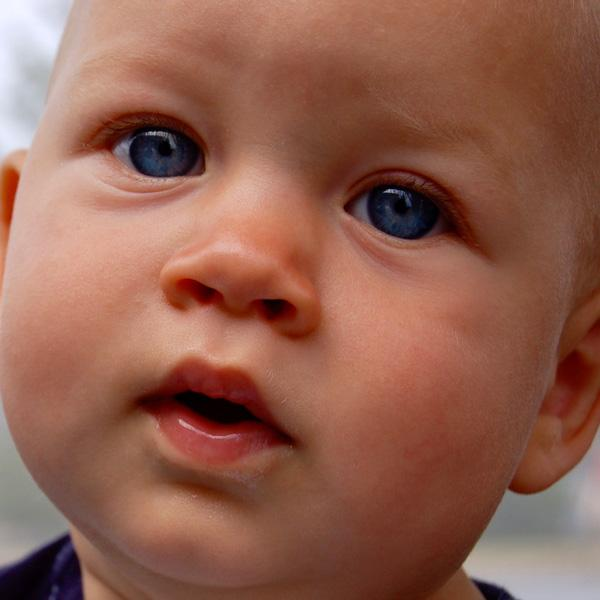Eyes: (334, 156, 473, 262), (82, 99, 216, 192)
